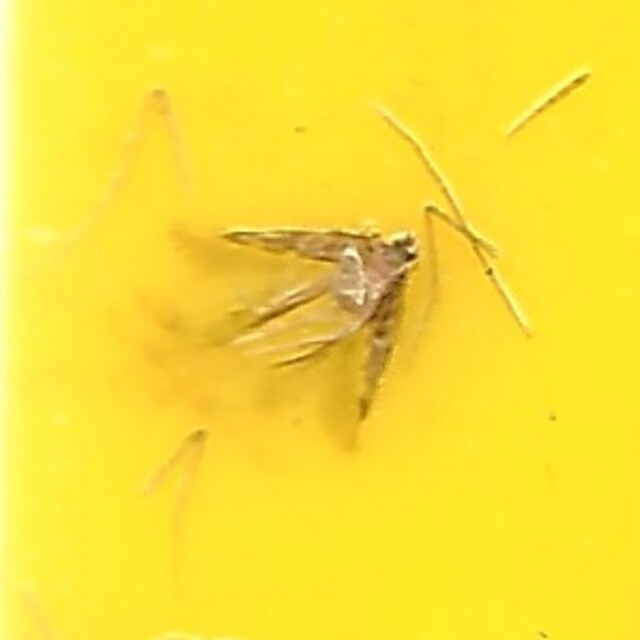Trichoptera: (215, 215, 425, 425)
